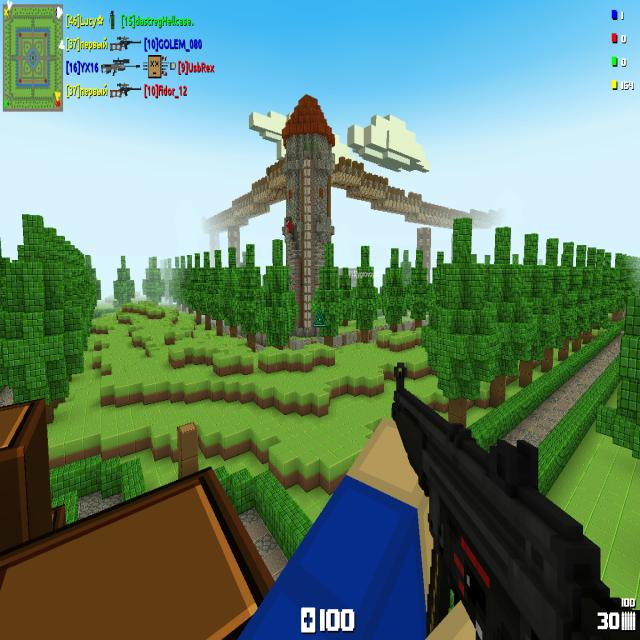enemy: (286, 220, 293, 233)
